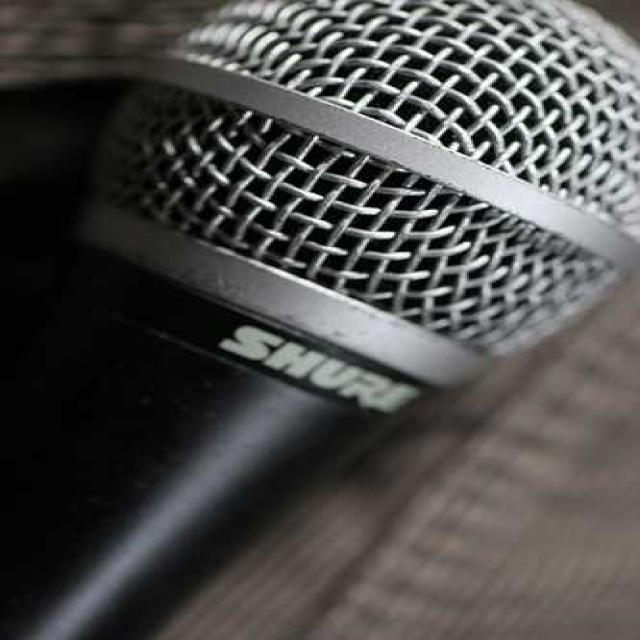microphone: (22, 0, 640, 432)
